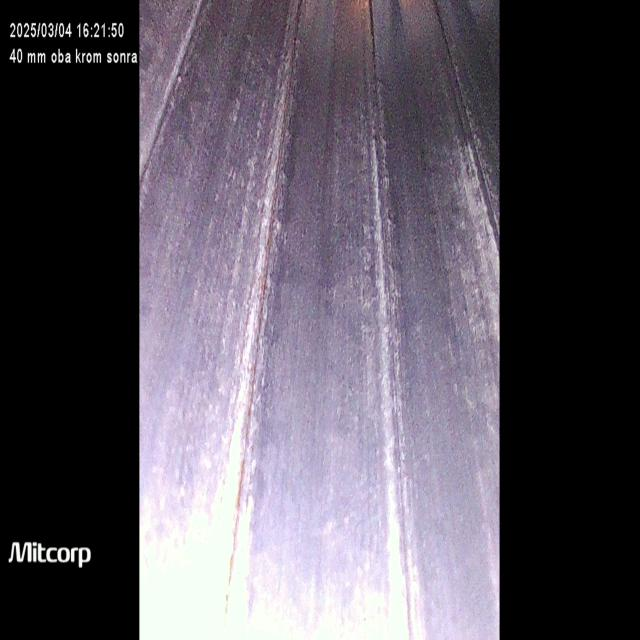hata_8.2: (177, 52, 324, 640), (350, 94, 446, 640)
